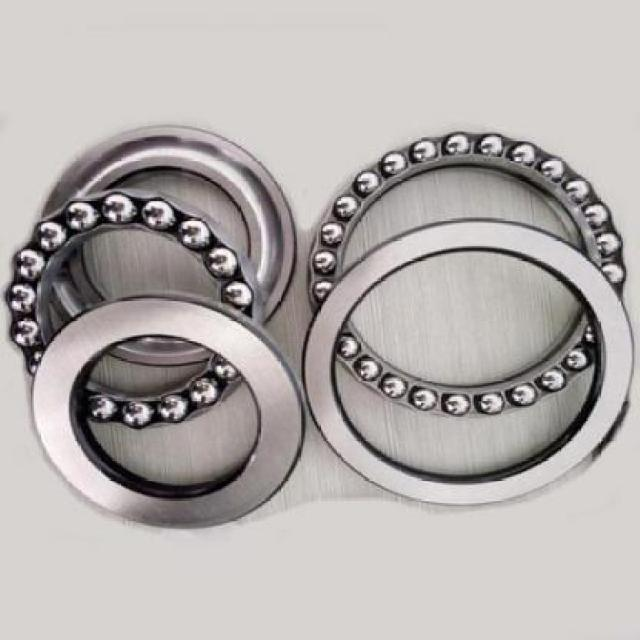Bearing: (302, 128, 639, 508), (4, 125, 305, 532)
